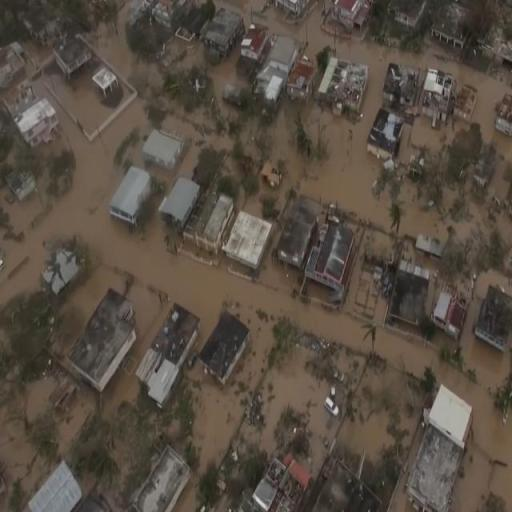house: (383, 380, 474, 512), (66, 289, 138, 393), (136, 300, 202, 408), (130, 443, 192, 512), (12, 458, 86, 512), (198, 310, 250, 386), (305, 220, 357, 293), (185, 190, 236, 259), (384, 258, 434, 328), (473, 272, 512, 354), (224, 211, 273, 273), (318, 56, 369, 111), (110, 164, 152, 226), (431, 0, 478, 54), (205, 4, 247, 62), (16, 92, 58, 148), (162, 176, 200, 228), (141, 127, 185, 170), (367, 109, 402, 159), (384, 60, 420, 108), (52, 33, 92, 76), (329, 0, 372, 34), (386, 0, 426, 32), (286, 52, 312, 101), (240, 25, 268, 66), (278, 0, 312, 24), (493, 94, 512, 136)
